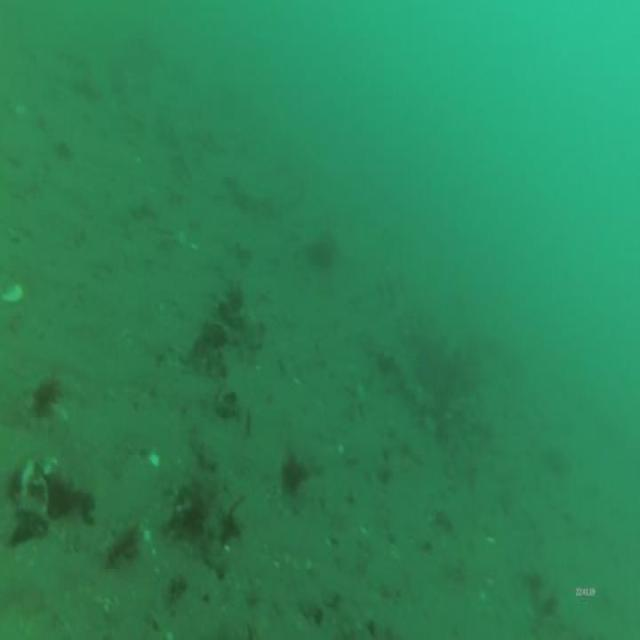echinus: (28, 368, 62, 419), (280, 447, 311, 495), (540, 442, 568, 479), (310, 236, 334, 276)
holothurian: (198, 479, 246, 581)
